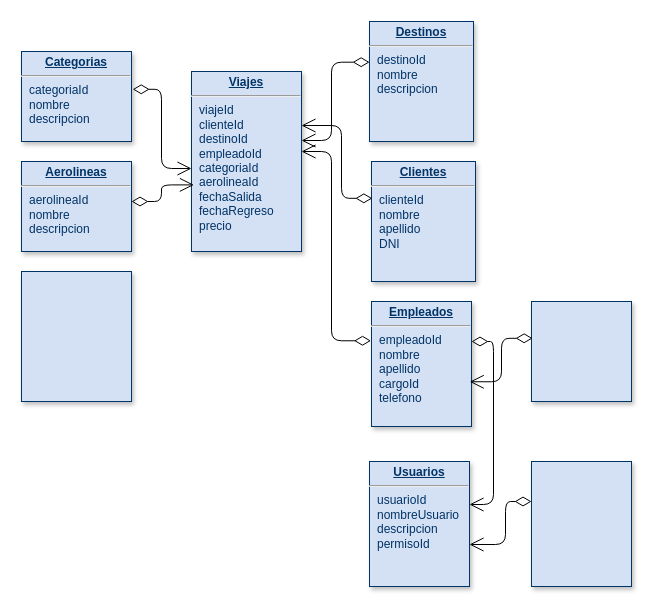
The diagram is 655 pixels wide and 611 high, and some of its shapes have lost their labels. The centre of each missing label's shape, as x and y in pixels:
"Cargos cargoId nombre descripcion departamento" goes at point (582, 352).
"Hoteles hotelId nombre ubicacion estrellas descripcion" goes at point (77, 337).
"Permisos permisoId nombre descripcion" goes at point (582, 525).
